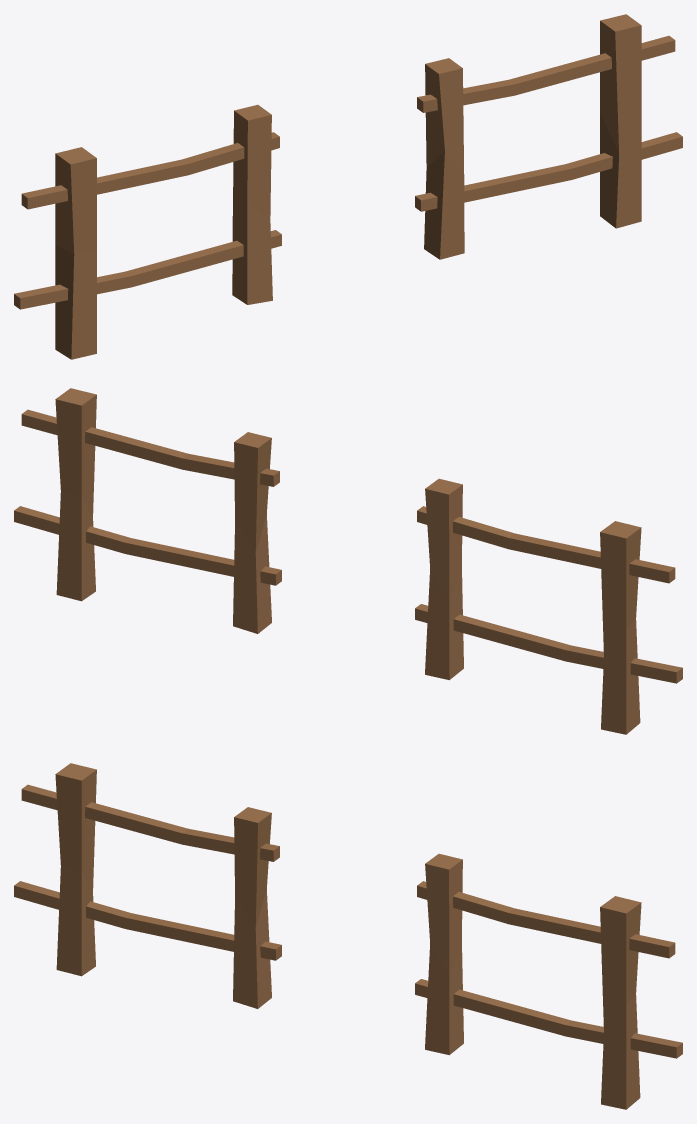
The model's file is Fence_4 Gate.fbx.
3 renders of one model, top to bottom at view 1: azimuth 30°, elevation 25°; view 2: azimuth 150°, elevation 25°; view 3: azimuth 330°, elevation 25°, orthographic.
Parts seen in each view (by area): view 1: Fence4Gate_mesh; view 2: Fence4Gate_mesh; view 3: Fence4Gate_mesh.
Boxes of the visible parts, x1,y1,x2,y2 form: Fence4Gate_mesh: (14,14,682,359); Fence4Gate_mesh: (14,388,682,734); Fence4Gate_mesh: (14,763,682,1109).
Bounding box in the file's own units: 376 × 107 × 14.93.
